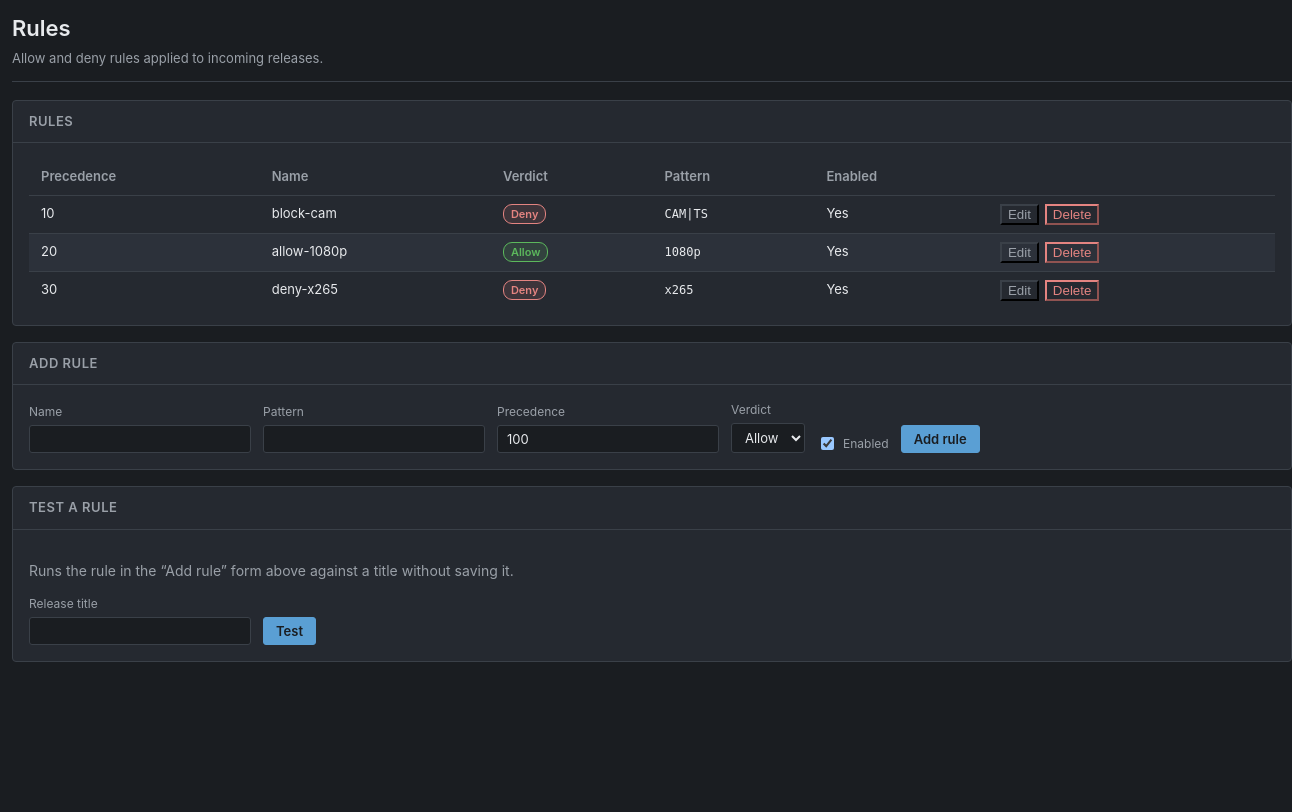
Scenario: Rules › keeps two concurrent refusals on their own rows, and clears only the row that retries (arb-39g3)
This screenshot has width=1292, height=812.
Expected: the text "block-cam" is shown, x1=260 y1=195 x2=491 y2=233
# Refuse A ("block-cam") and B ("allow-1080p"), both left unresolved.
Step 1. Click the button with aria-label "Delete block-cam" → {"x": 1072, "y": 214}, box x1=1045 y1=204 x2=1099 y2=224
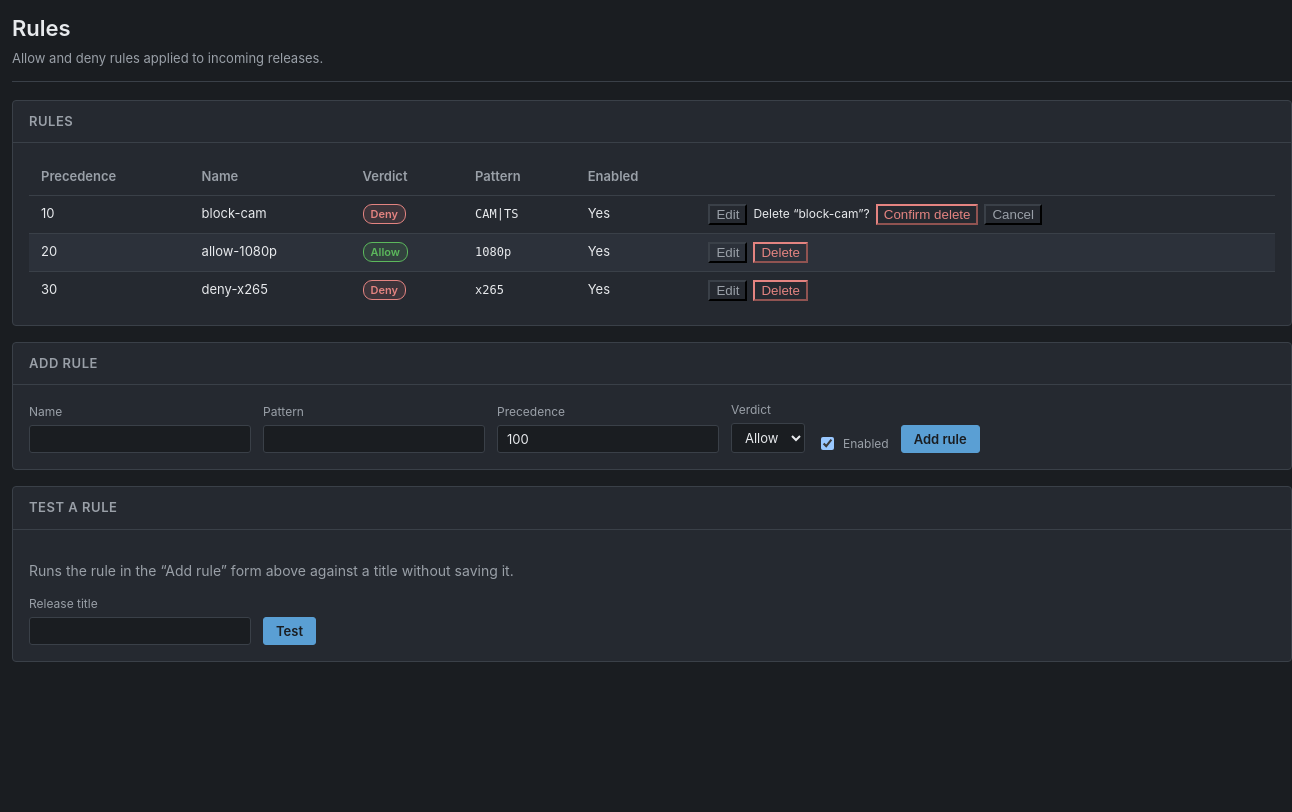
Step 2. Click the button with aria-label "Confirm delete block-cam" → {"x": 927, "y": 214}, box x1=876 y1=204 x2=978 y2=224
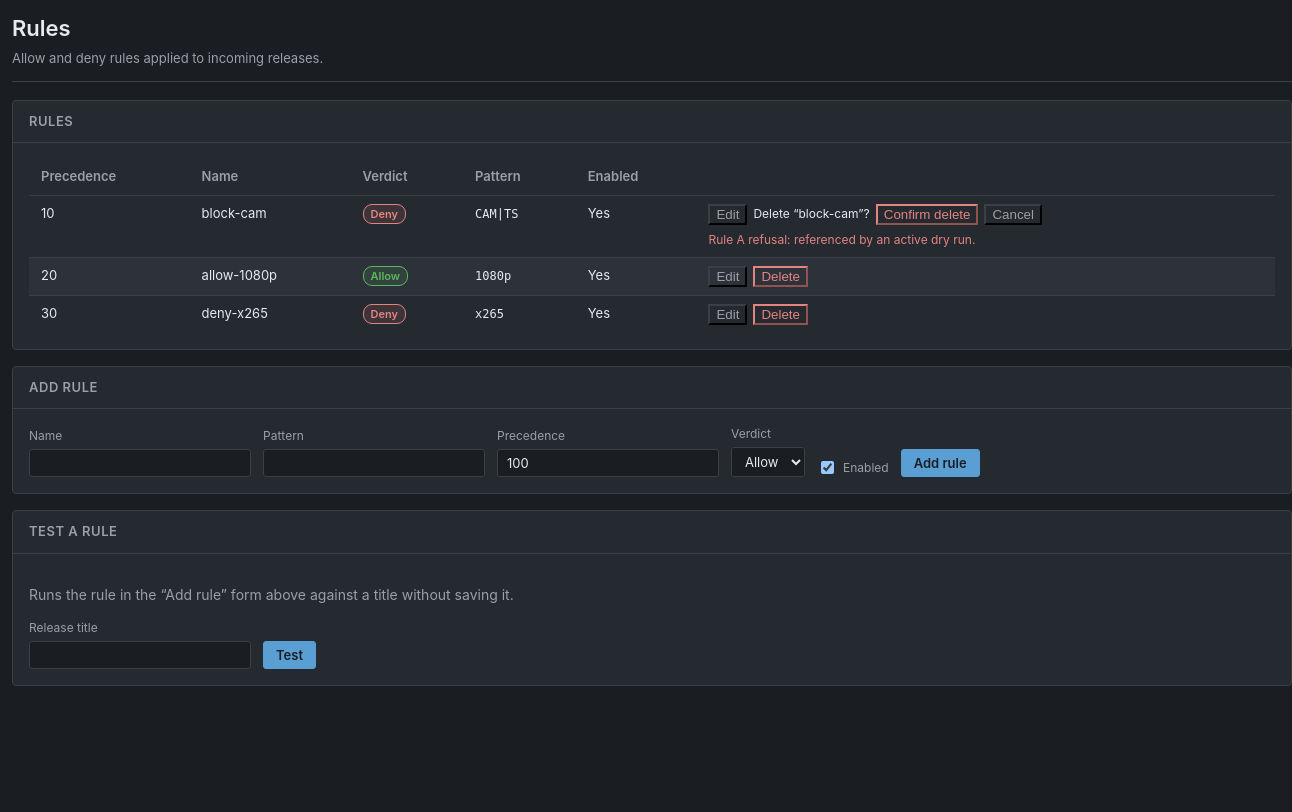
Step 3. Click the button with aria-label "Delete allow-1080p" → {"x": 781, "y": 276}, box x1=753 y1=266 x2=808 y2=286
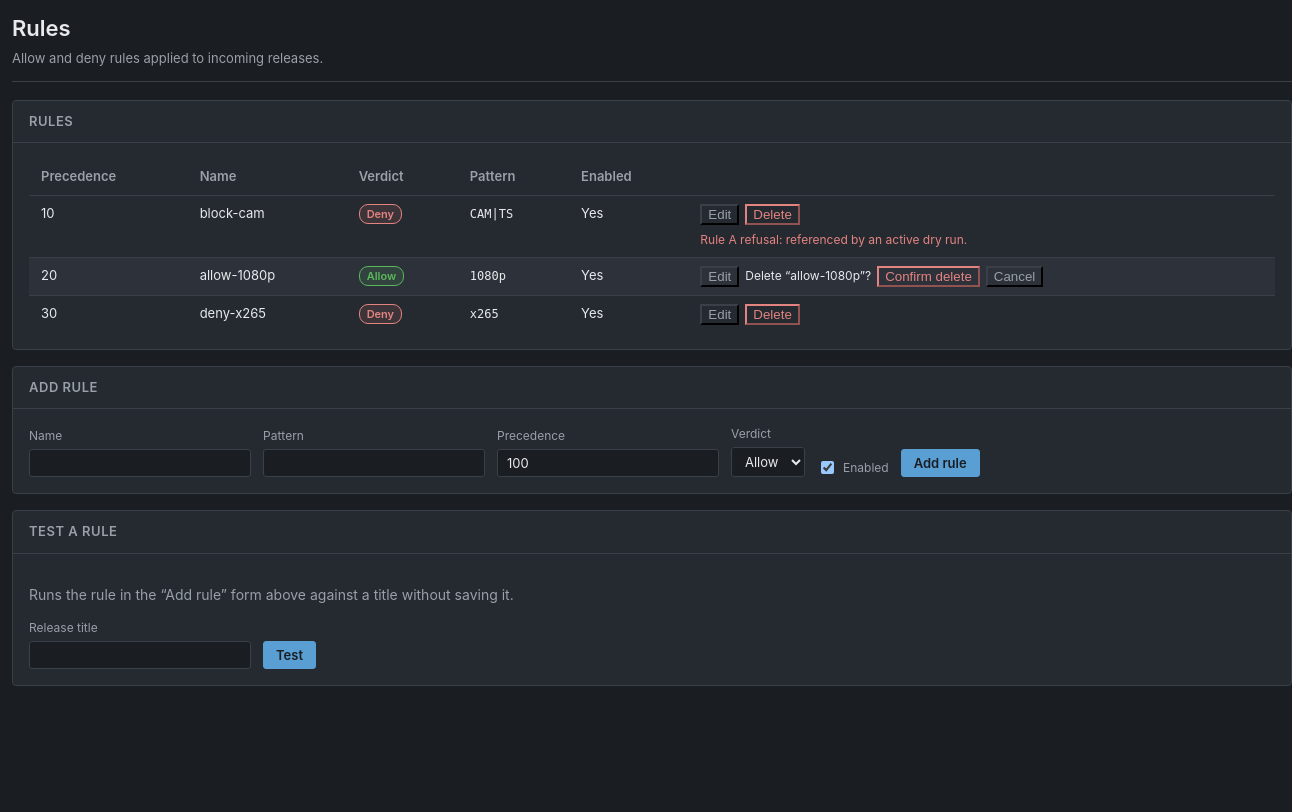
Step 4. Click the button with aria-label "Confirm delete allow-1080p" → {"x": 928, "y": 276}, box x1=877 y1=266 x2=980 y2=286
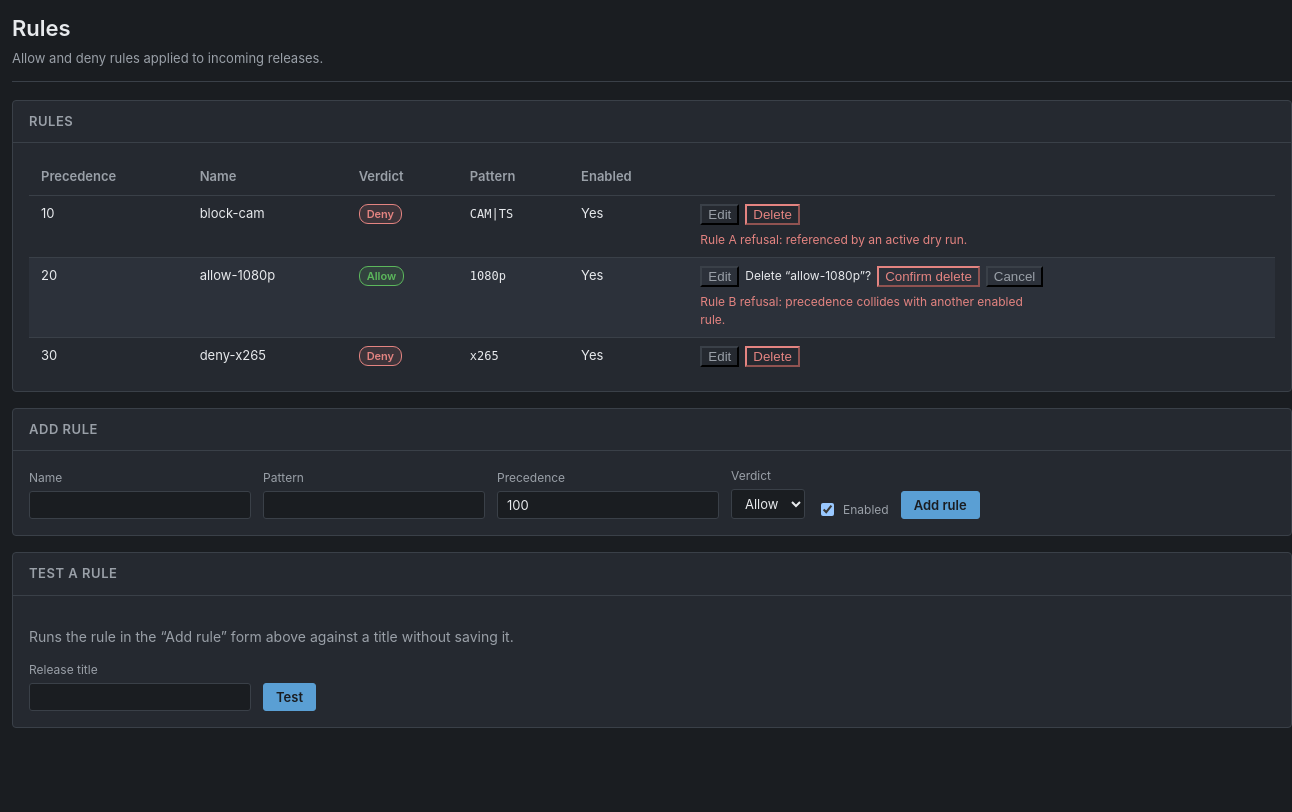
Result: the text "Rule A refusal: referenced by an active dry run." is shown once at x1=700 y1=232 x2=967 y2=246
Result: the text "Rule B refusal: precedence collides with another enabled rule." is shown once at x1=700 y1=292 x2=1033 y2=328
Step 5. Click the button with aria-label "Delete block-cam" → {"x": 773, "y": 214}, box x1=745 y1=204 x2=800 y2=224
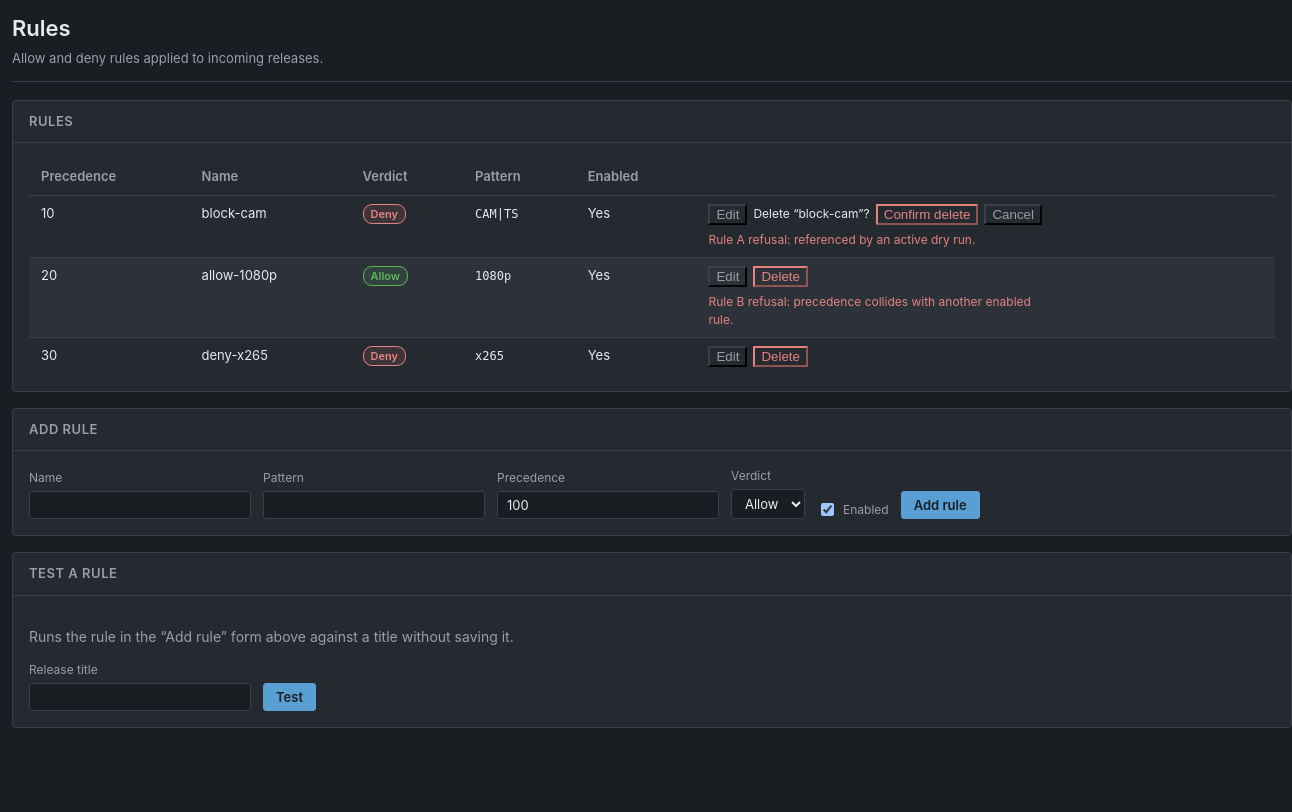
Step 6. Click the button with aria-label "Confirm delete block-cam" → {"x": 927, "y": 214}, box x1=876 y1=204 x2=978 y2=224
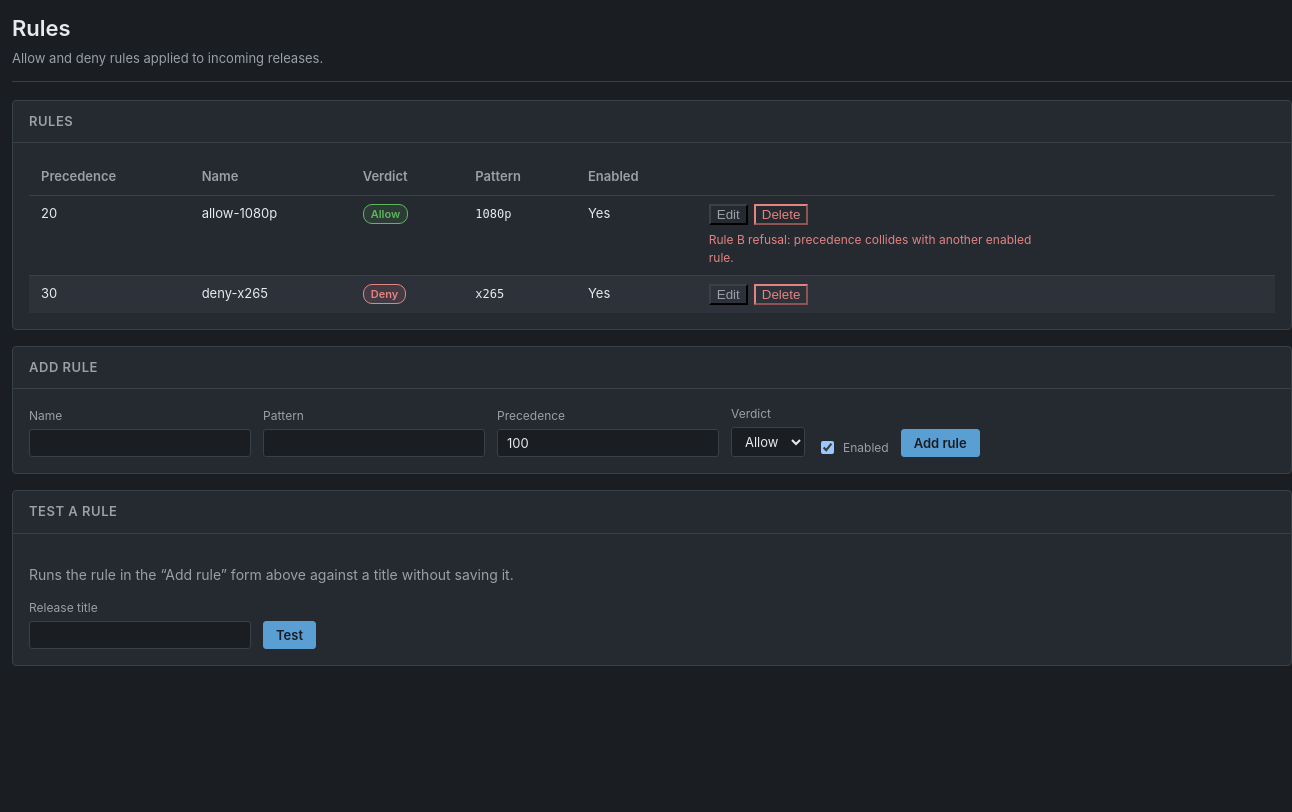
Result: the text "Rule B refusal: precedence collides with another enabled rule." is shown at x1=709 y1=230 x2=1042 y2=266
Result: the text "Rule A refusal: referenced by an active dry run." is gone
